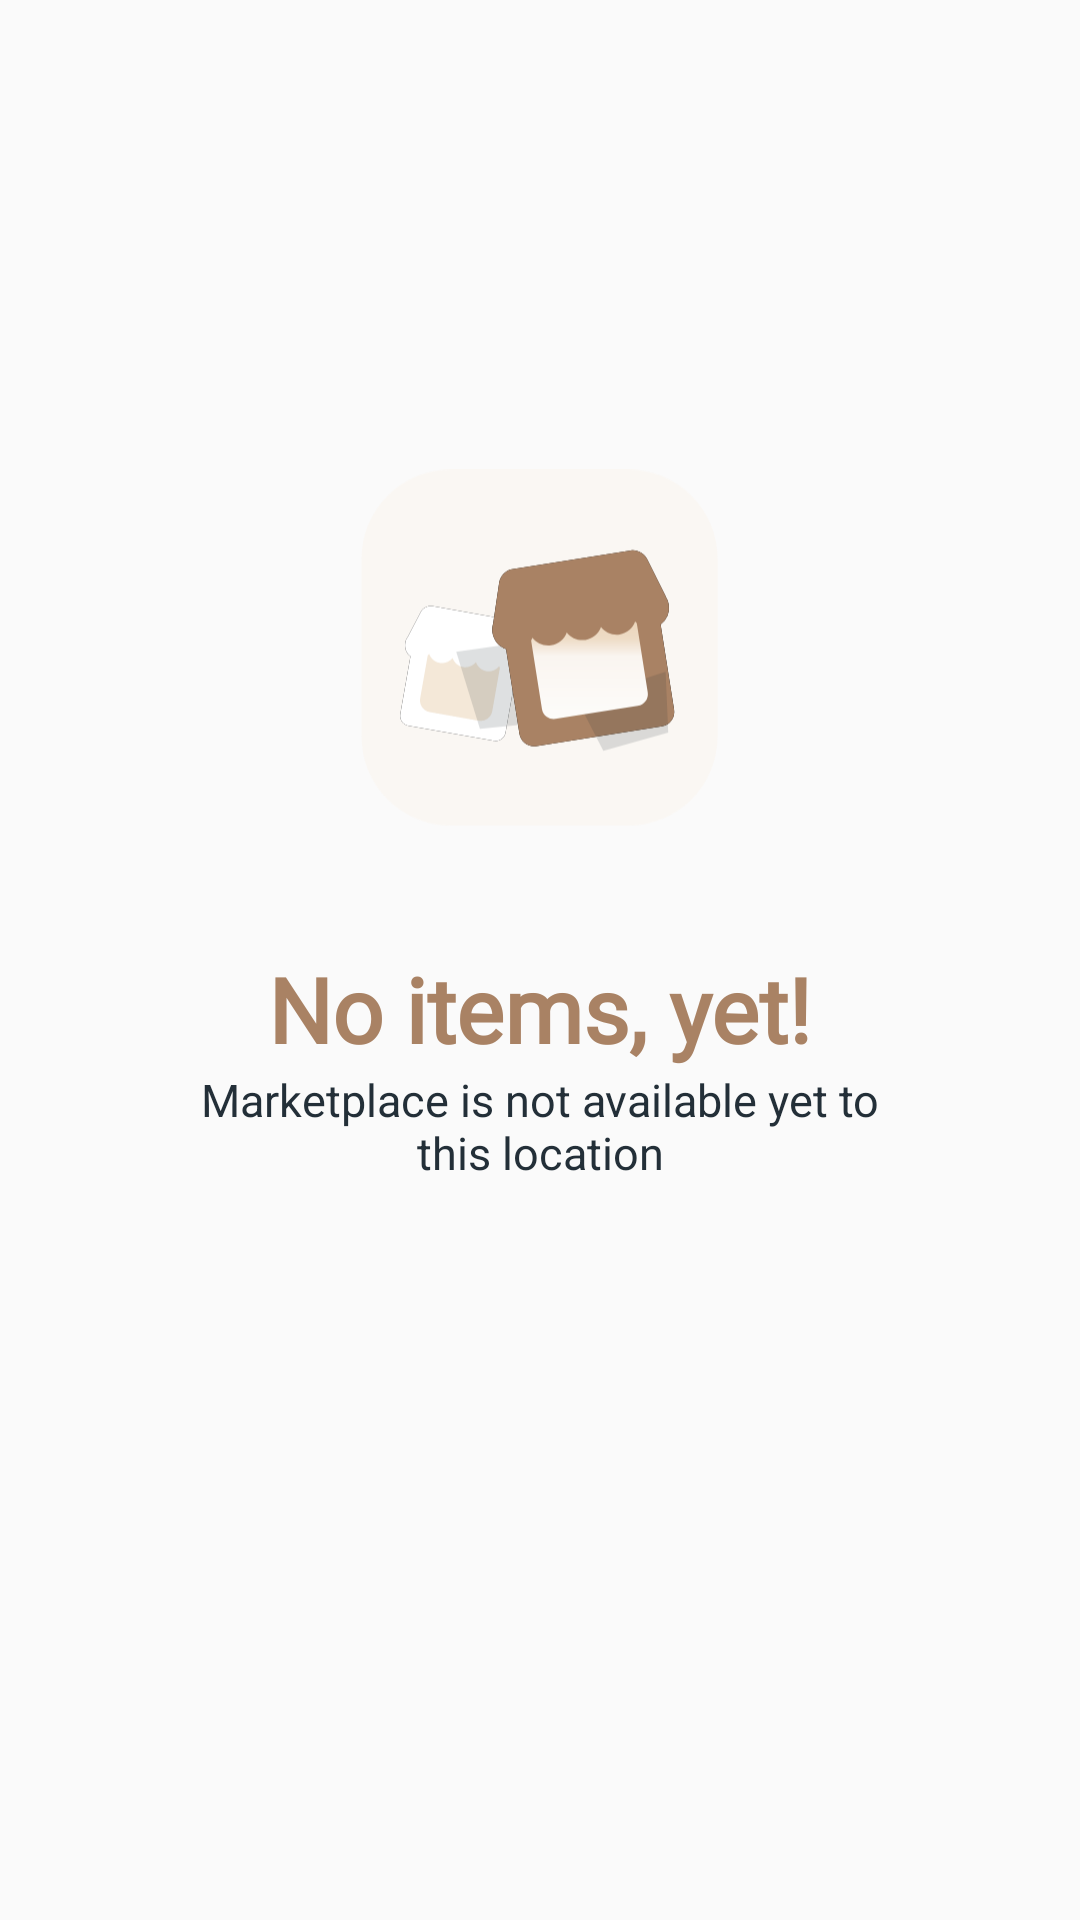

Named icons in this screenshot (1080x1920) and their centers, point (x, y):
market place empty: point (537, 649)
